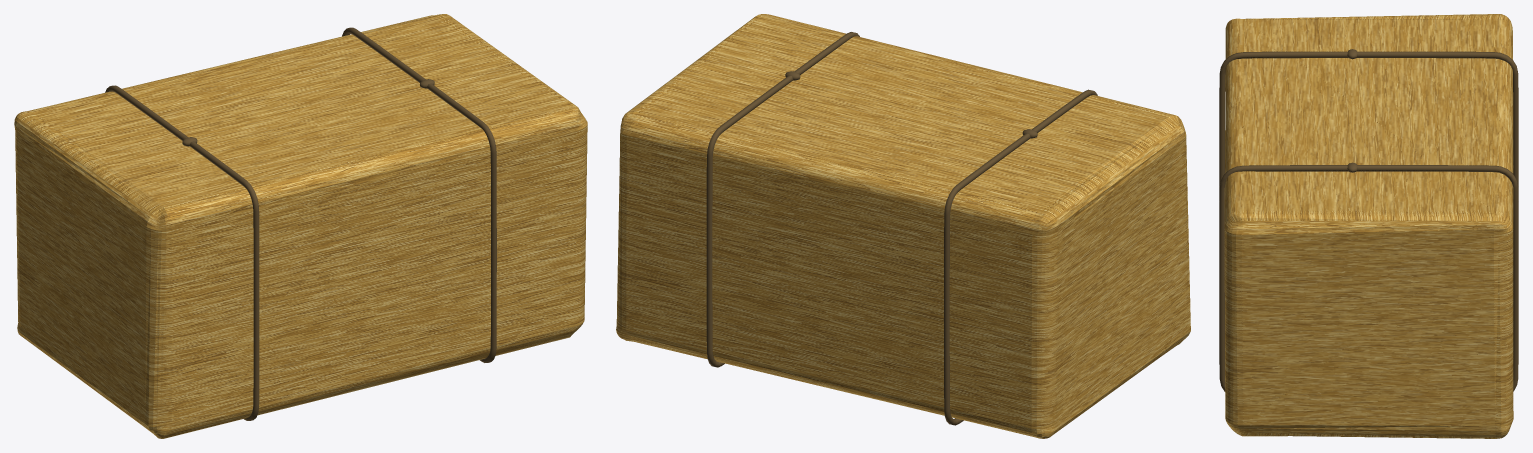
File: hay.glb
3 renders of one model, left to right at view 1: azimuth 30°, elevation 25°; view 2: azimuth 150°, elevation 25°; view 3: azimuth 270°, elevation 25°, orthographic. The views are drawn at different scales.
Parts seen in each view (by area): view 1: Compressed_Straw, Left_Twine, Right_Twine; view 2: Compressed_Straw, Right_Twine, Left_Twine; view 3: Compressed_Straw, Right_Twine, Left_Twine.
Boxes of the visible parts, box(x1,y1,x2,y2) form: Compressed_Straw: box(14, 14, 587, 438); Left_Twine: box(105, 85, 259, 420); Right_Twine: box(342, 27, 496, 362); Compressed_Straw: box(616, 14, 1190, 438); Right_Twine: box(706, 32, 859, 367); Left_Twine: box(944, 89, 1097, 425); Compressed_Straw: box(1224, 14, 1513, 438); Right_Twine: box(1219, 165, 1518, 391); Left_Twine: box(1219, 51, 1518, 200).
Bounding box in the file's own units: 1.82 × 0.9513 × 1.09.
Materials: 2 (1 with a texture image).
